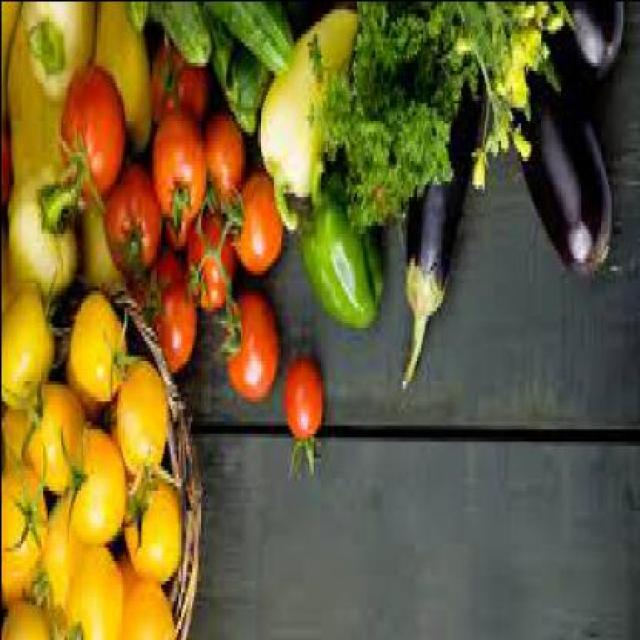BIODEGRADABLE: (302, 4, 473, 241), (397, 73, 483, 396), (446, 4, 572, 196), (507, 49, 608, 277), (255, 12, 356, 237), (298, 175, 382, 338), (89, 4, 149, 159), (56, 69, 121, 208), (4, 20, 59, 180), (4, 176, 73, 302), (14, 5, 89, 106), (132, 252, 193, 376), (120, 473, 185, 587), (38, 497, 90, 632), (1, 280, 54, 412), (149, 110, 203, 236), (63, 432, 122, 546), (202, 12, 255, 138), (538, 4, 620, 85), (101, 167, 159, 281), (114, 367, 166, 493), (62, 298, 122, 407), (202, 4, 290, 78), (22, 383, 78, 497), (216, 293, 275, 399), (226, 175, 279, 277), (1, 458, 44, 580), (63, 550, 122, 638), (282, 354, 322, 480), (147, 41, 202, 130), (183, 215, 231, 314), (201, 118, 242, 224), (145, 5, 207, 69), (222, 44, 268, 114), (117, 591, 172, 638), (61, 363, 95, 428), (2, 3, 20, 119), (2, 597, 52, 638), (0, 411, 32, 468), (158, 221, 190, 261), (0, 575, 38, 603), (121, 4, 145, 36), (113, 555, 135, 587), (2, 122, 8, 209)
